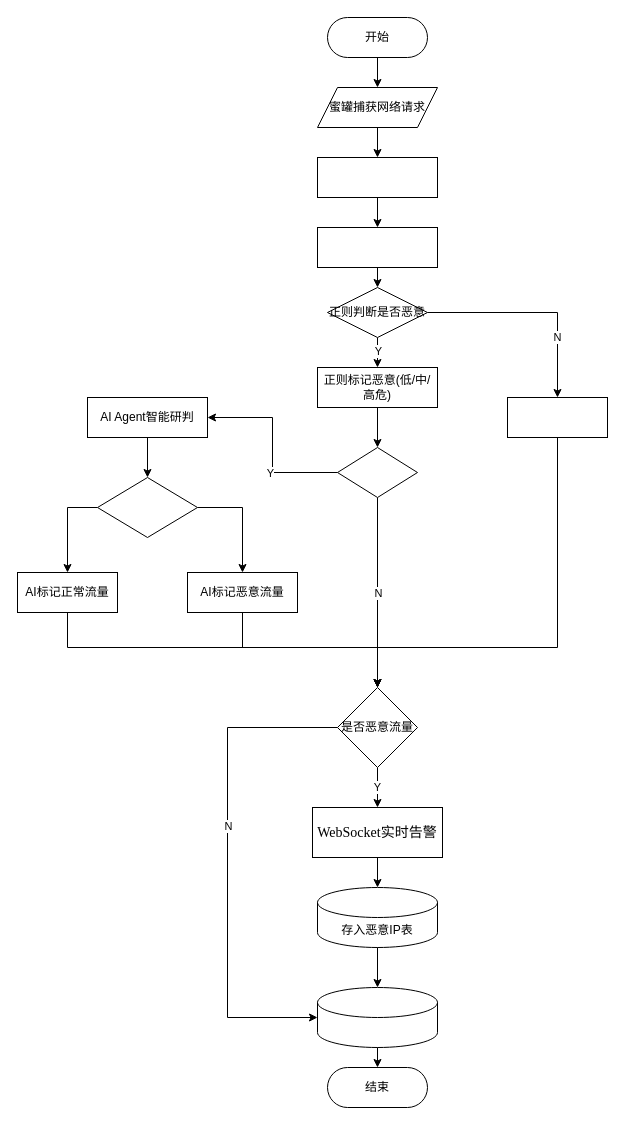
Some shapes in this 625 by 1125 pixel diagram are drawn without their labels. Here are the shapes that lost their labels. From the top down, the centre of each, then its label:
At point (377, 177): "上报核心服务提取特征".
At point (377, 247): "正则引擎匹配危险载荷".
At point (557, 417): "正则标记正常流量".
At point (377, 472): "是否开启AI".
At point (147, 507): "判定恶意?".
At point (377, 1017): "存入流量告警日志表".
